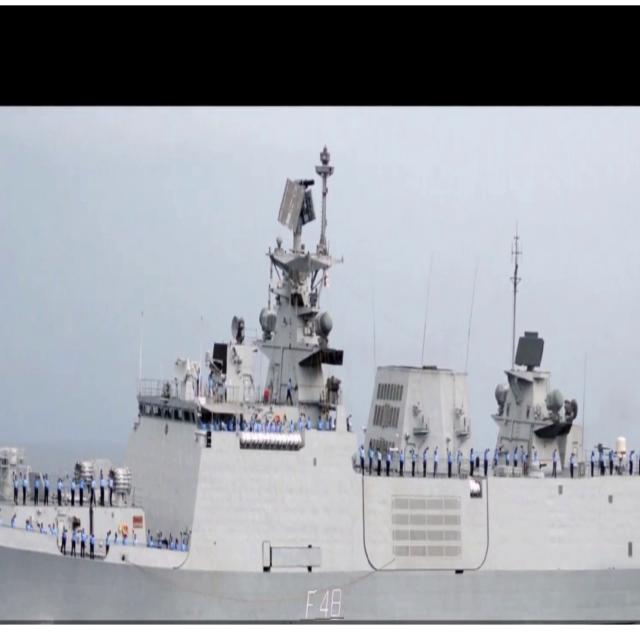OCR: (292, 585, 344, 622)
